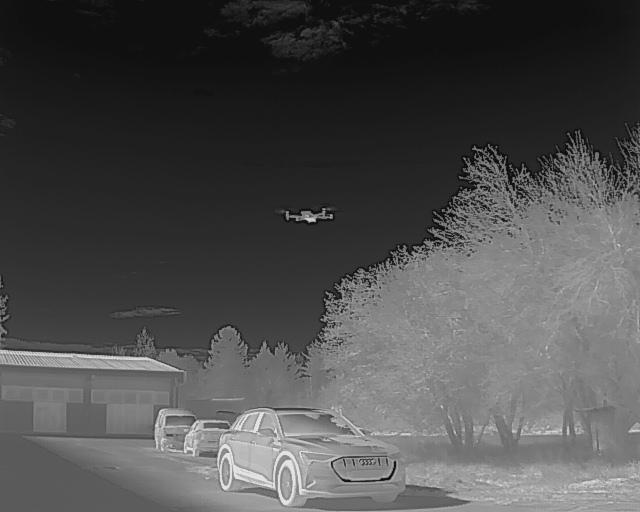drone: (273, 201, 341, 231)
